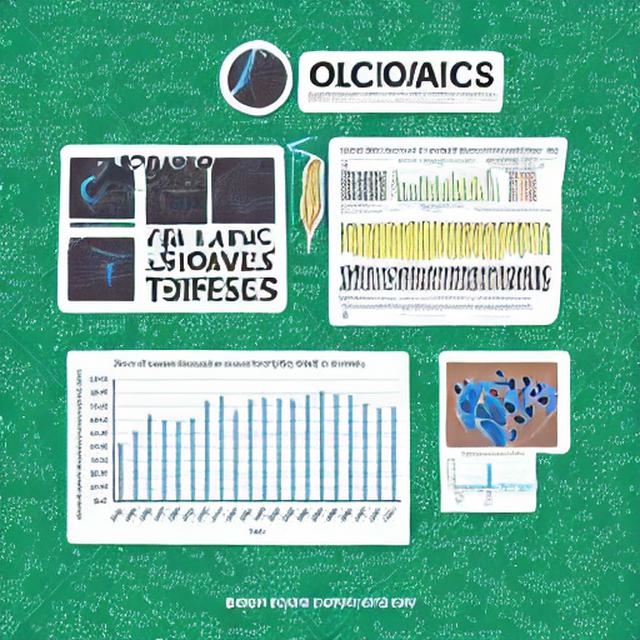Graph: (71, 352, 408, 542), (442, 451, 534, 510), (388, 159, 485, 209), (157, 188, 208, 225)
